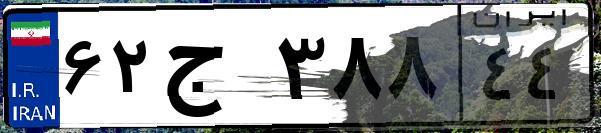2: (110, 28, 158, 98)
3: (270, 28, 330, 110)
4: (475, 38, 525, 113), (525, 38, 570, 115)
6: (57, 26, 110, 100)
8: (385, 28, 445, 110), (330, 28, 385, 110)
ج: (158, 20, 270, 120)
